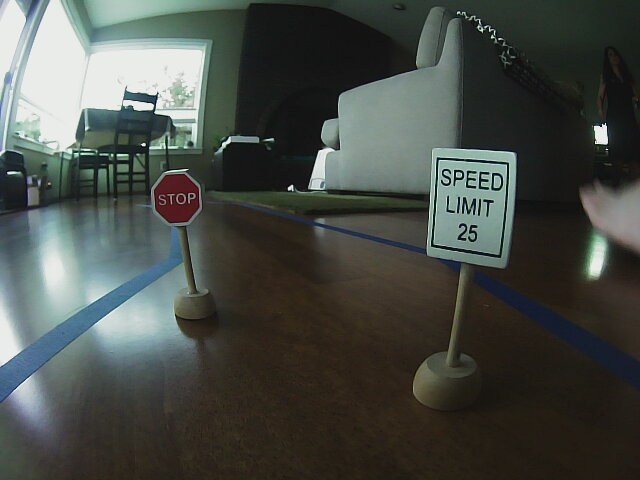SpeedLimit25: (434, 146, 508, 263)
StopSign: (151, 168, 205, 229)
